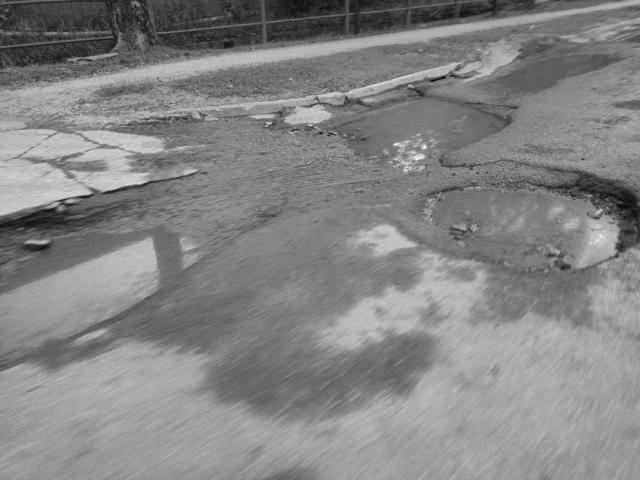Pothole: (0, 217, 212, 369), (422, 178, 640, 276), (322, 98, 514, 176), (476, 52, 632, 98)
